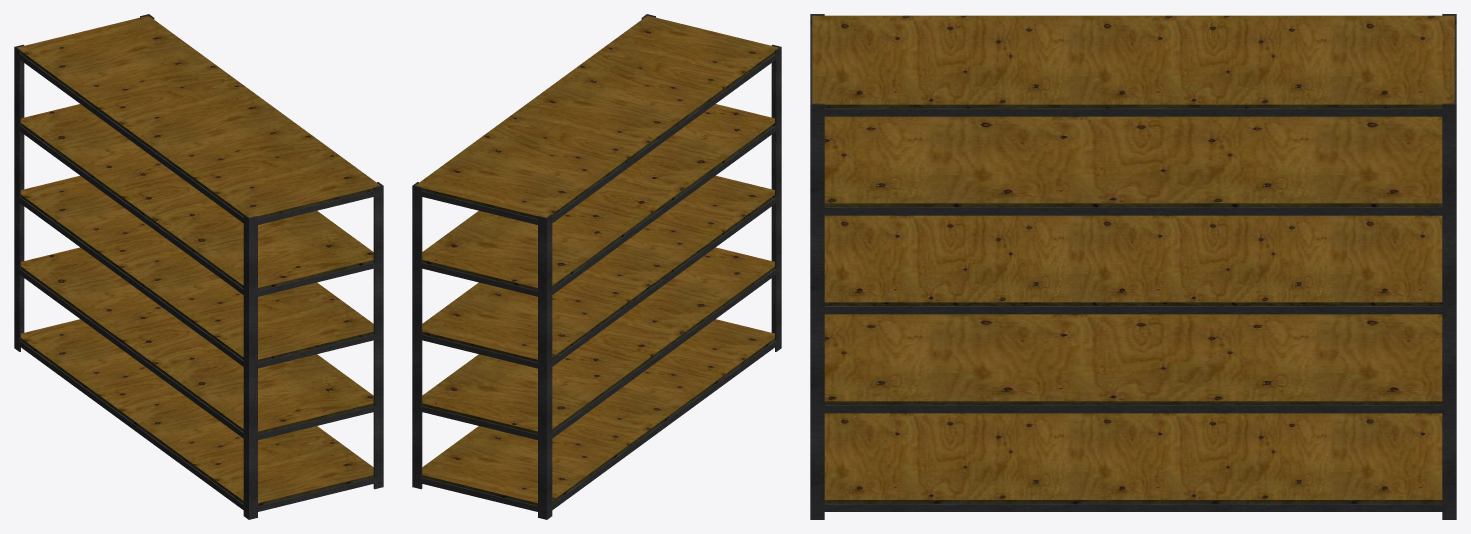
File: Rack.fbx
The picture shows the model from 3 angles, left to right: view 1: azimuth 30°, elevation 25°; view 2: azimuth 150°, elevation 25°; view 3: azimuth 270°, elevation 25°; orthographic projection. The views are drawn at different scales.
Parts seen in each view (by area): view 1: Model; view 2: Model; view 3: Model.
Boxes of the visible parts, box(x1,y1,x2,y2) form: Model: box(14, 14, 383, 519); Model: box(412, 14, 781, 519); Model: box(810, 14, 1456, 519).
Size of the model in its own units: 104 by 223 by 314.
